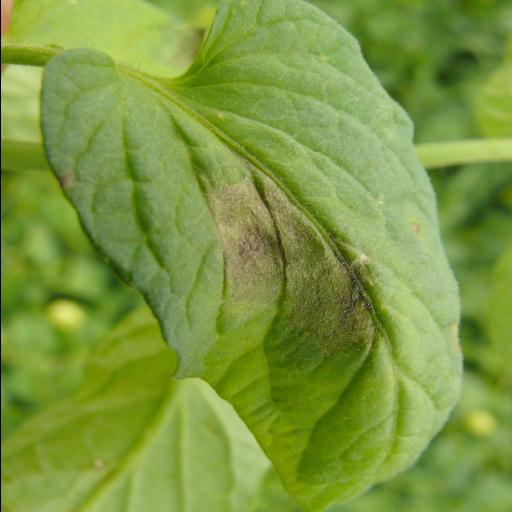disease_tomato: (34, 2, 468, 506)
